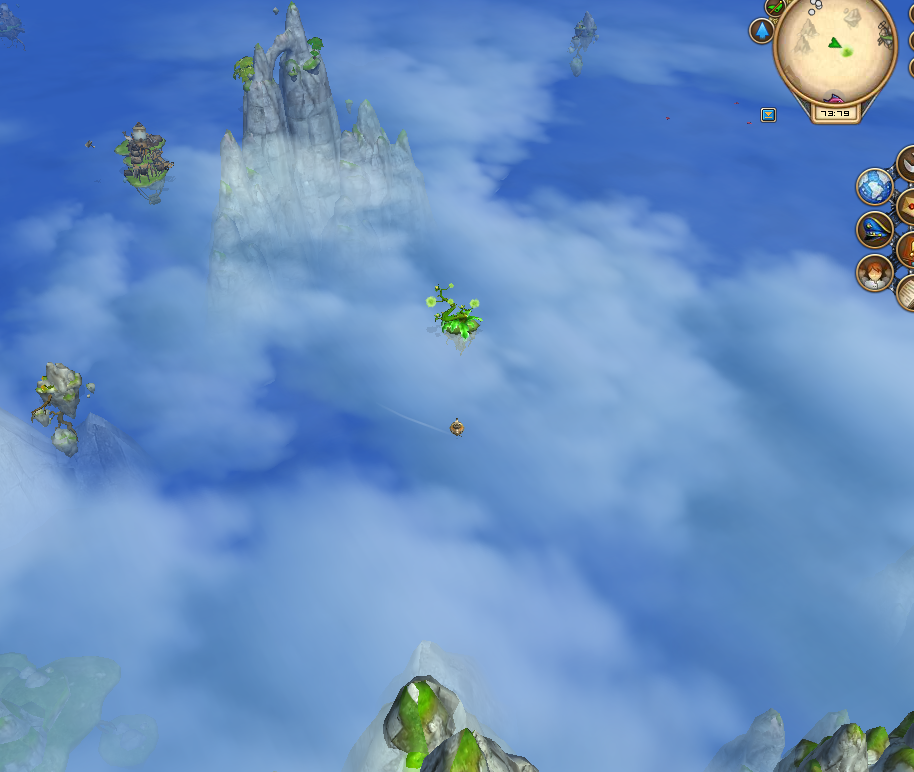dandelion-full: (420, 276, 489, 348)
